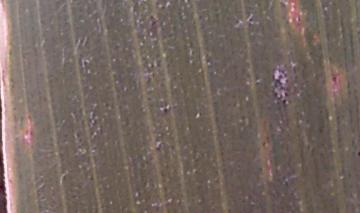tarspot: (149, 15, 157, 31), (155, 136, 163, 152), (329, 74, 339, 84), (262, 139, 271, 148), (163, 106, 171, 115)
